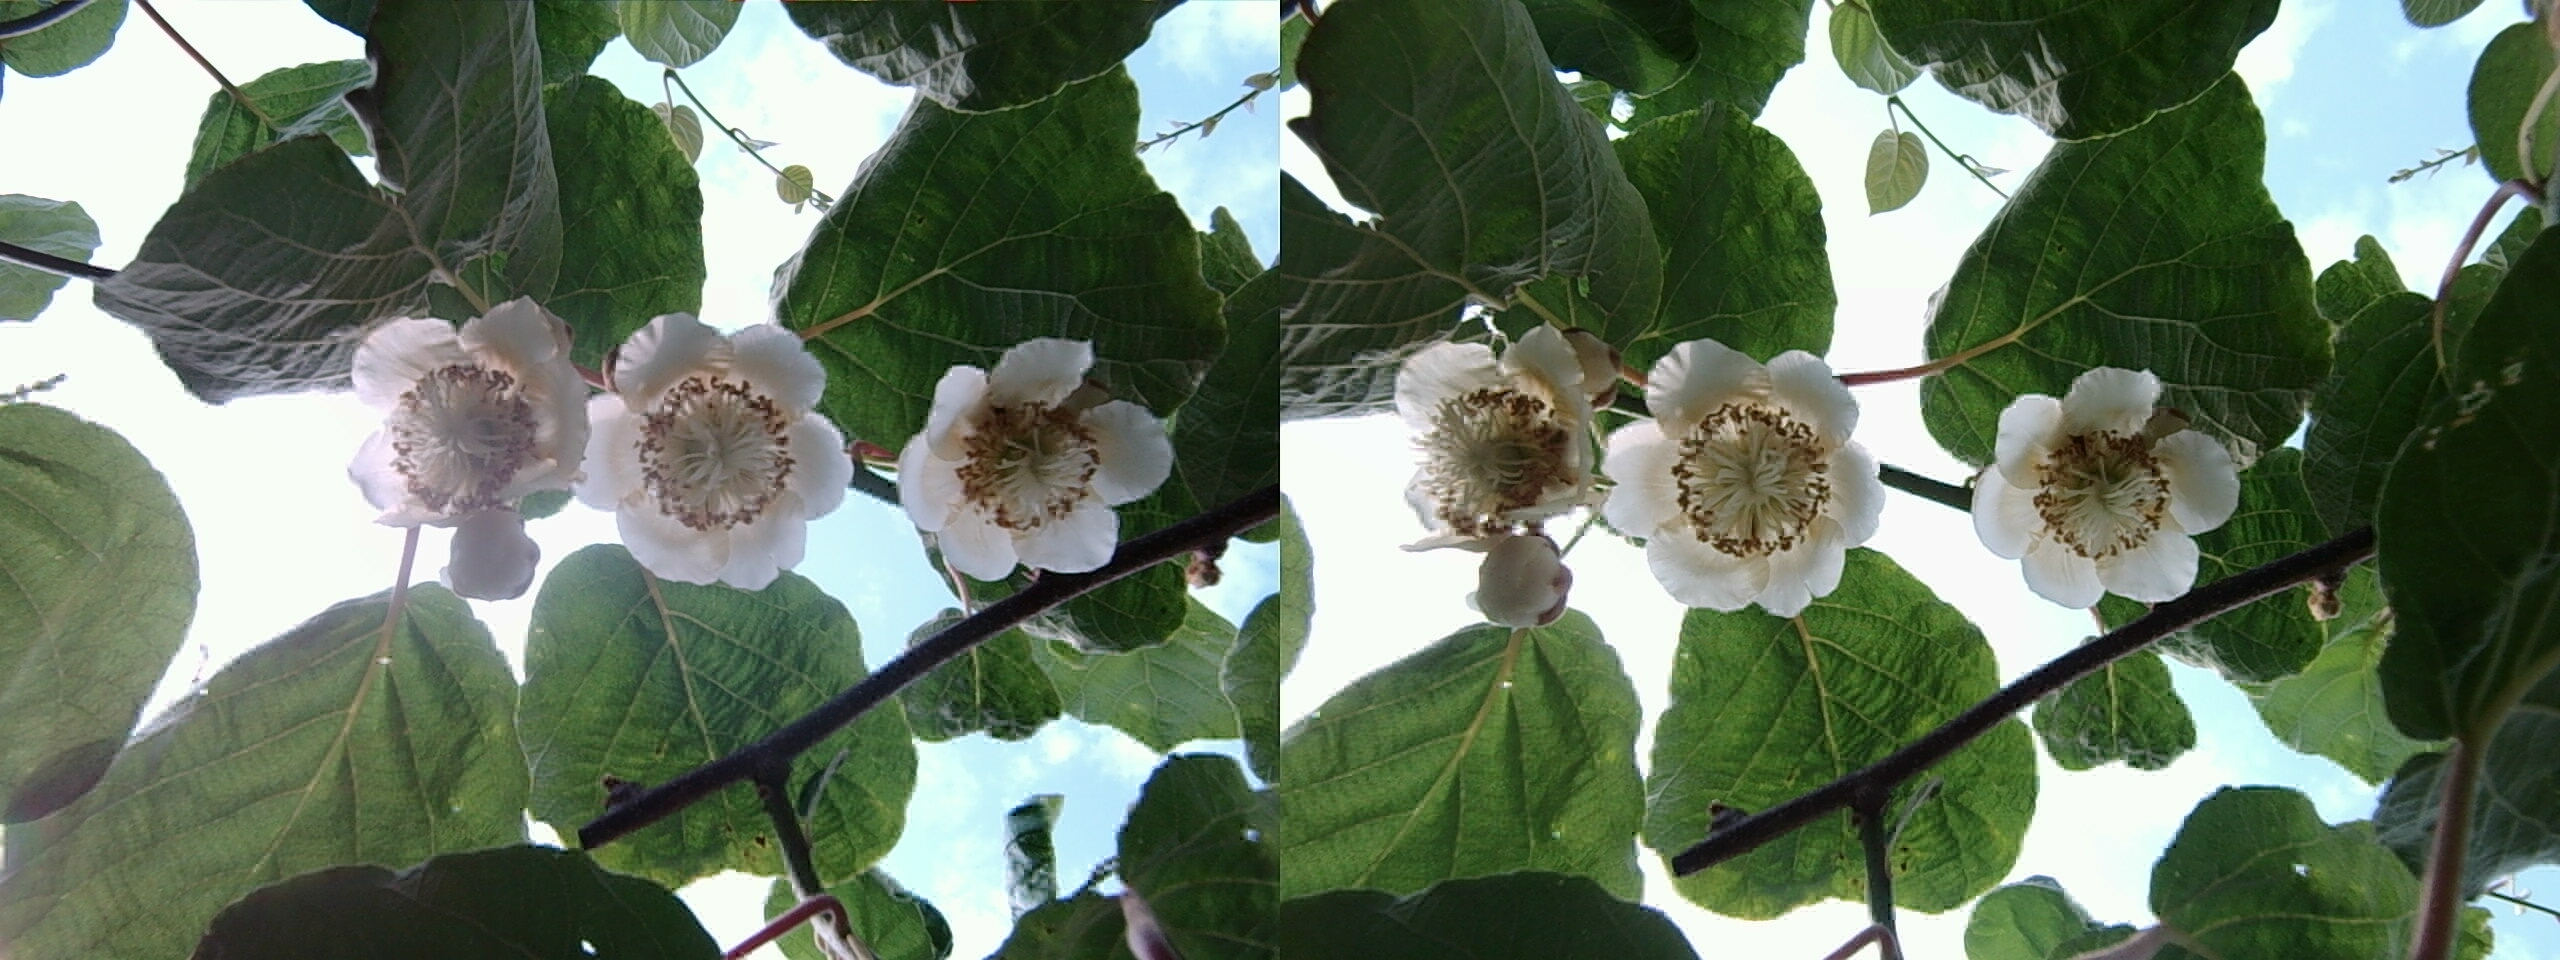flower: (1602, 327, 1892, 619), (573, 307, 856, 591), (1958, 358, 2235, 617), (891, 330, 1167, 589), (330, 300, 594, 568), (1380, 313, 1621, 558)
